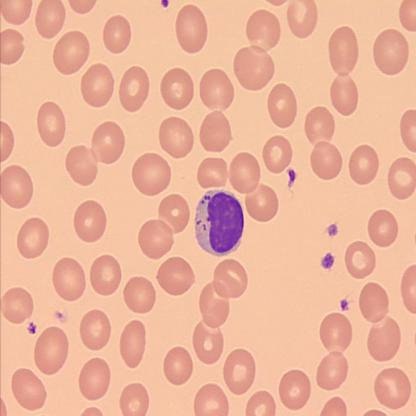Lymphocyte: (192, 188, 246, 258)
